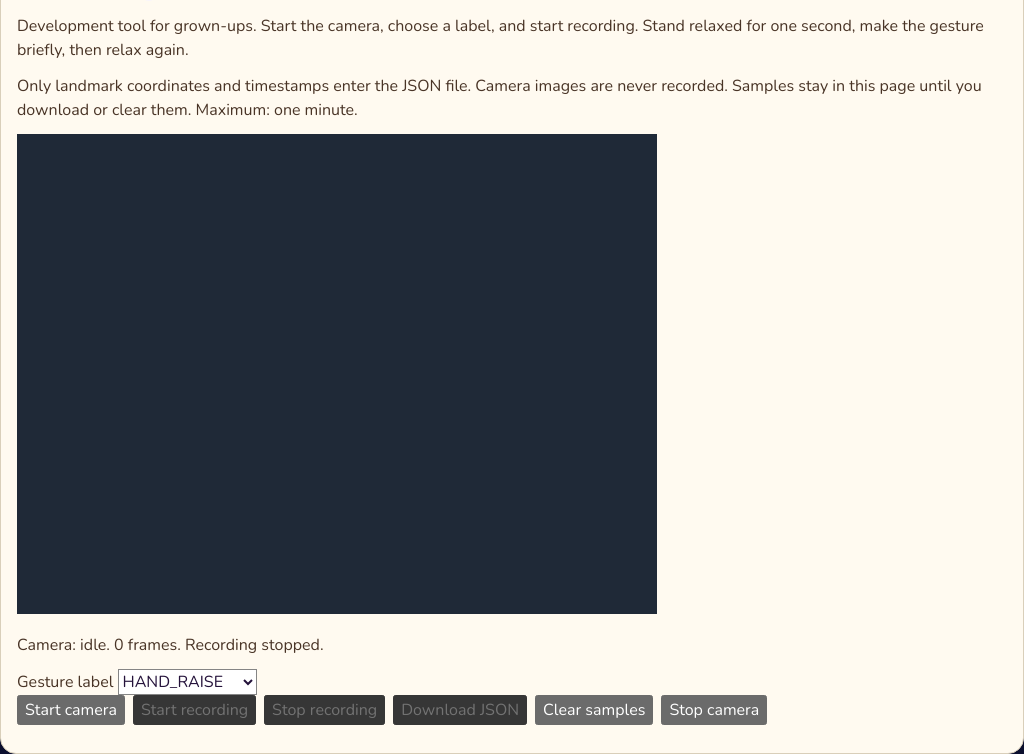
Test case: records only explicit samples, downloads local JSON with relative timestamps and cleans up
The image size is (1024, 754).
(page scrolled)
Check: the button "Download JSON" is disabled, box [393,695,527,725]
Check: the message shows "0 frames", box [17,634,324,656]
Click the button "Start camera": [71, 710] box [17,695,125,725]
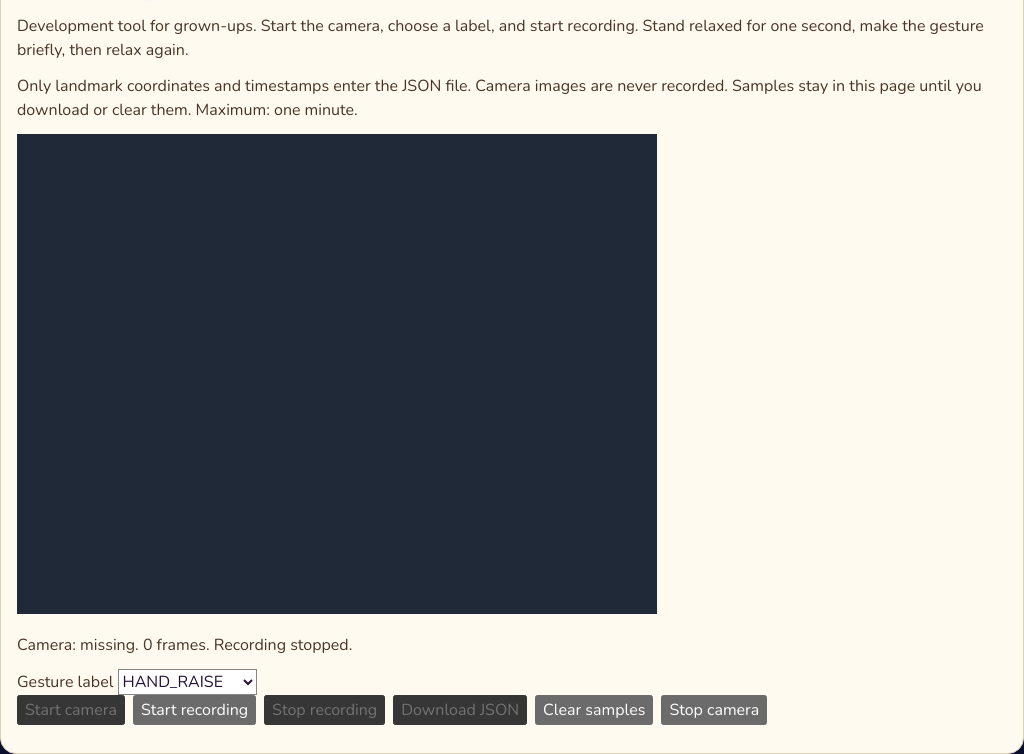
Click the button "Start recording": [194, 710] box [133,695,256,725]
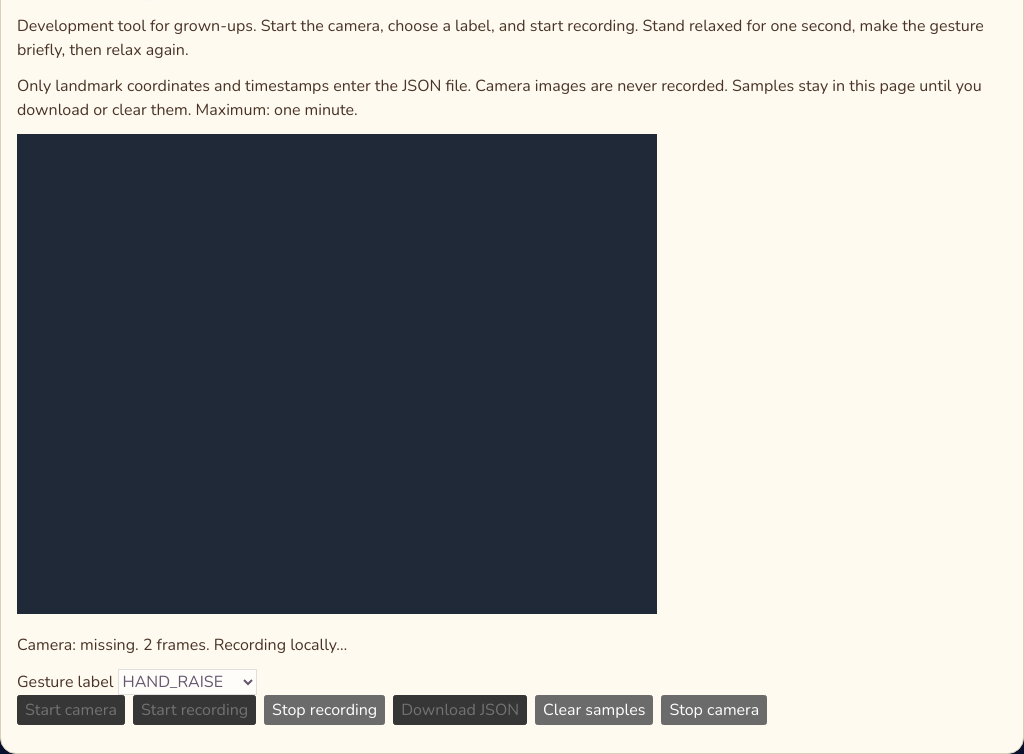
Click the button "Stop recording": [325, 710] box [264,695,385,725]
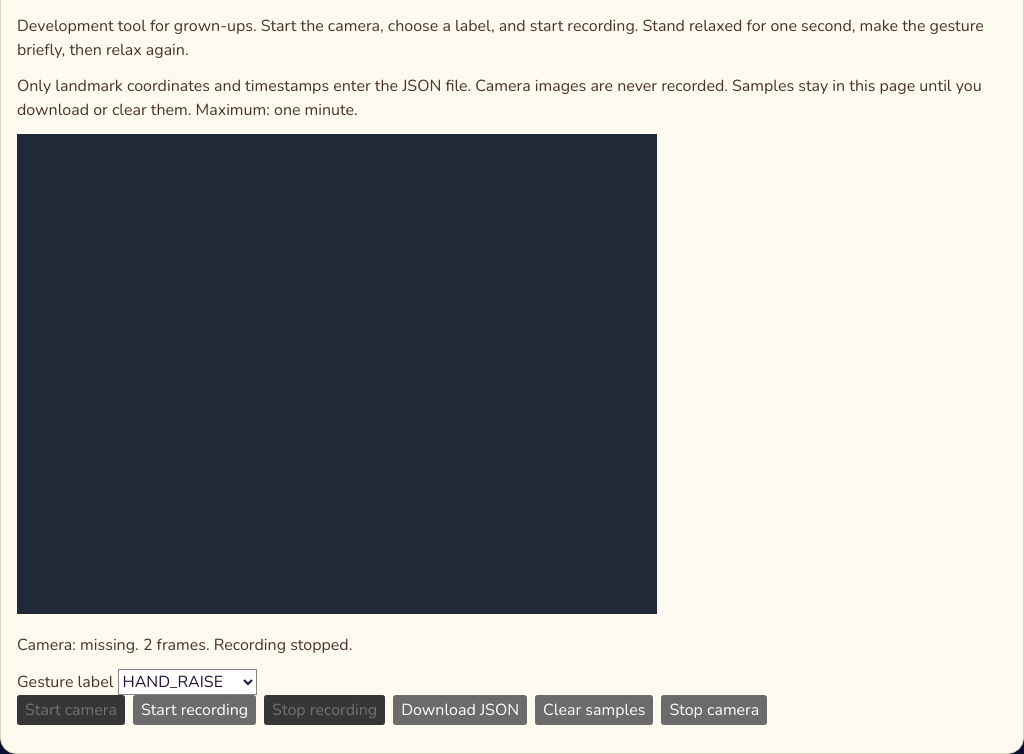
Check: the message shows "2 frames", box [17,634,352,656]
Click the button "Download JSON": [460, 710] box [393,695,527,725]
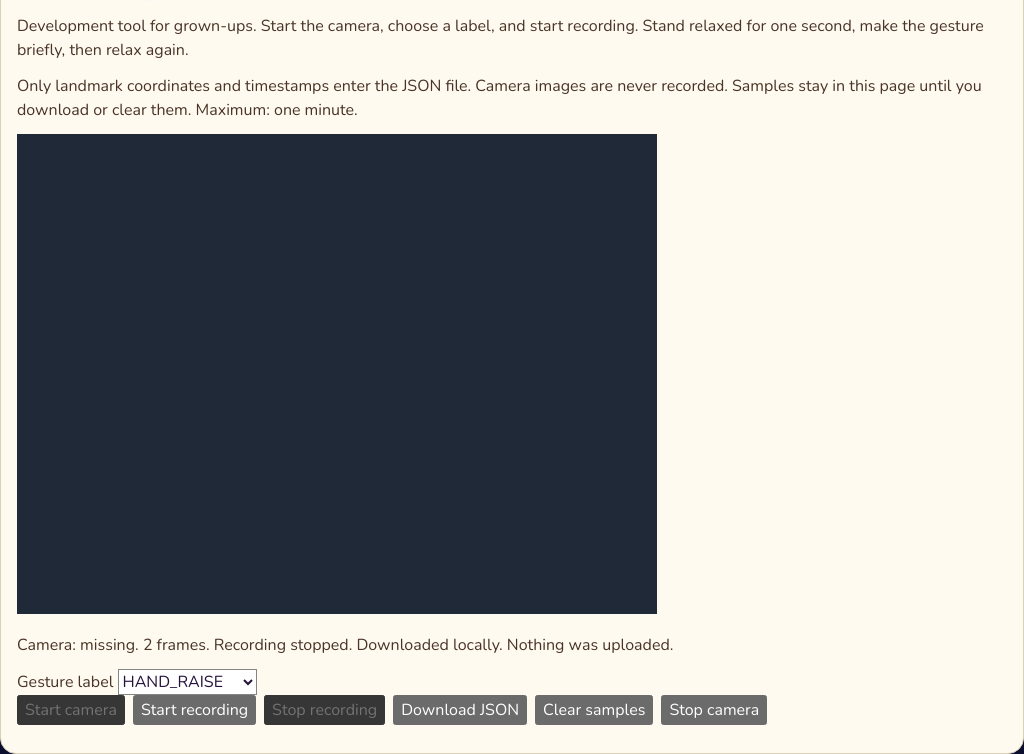
Click the button "Clear samples": [594, 710] box [535,695,653,725]
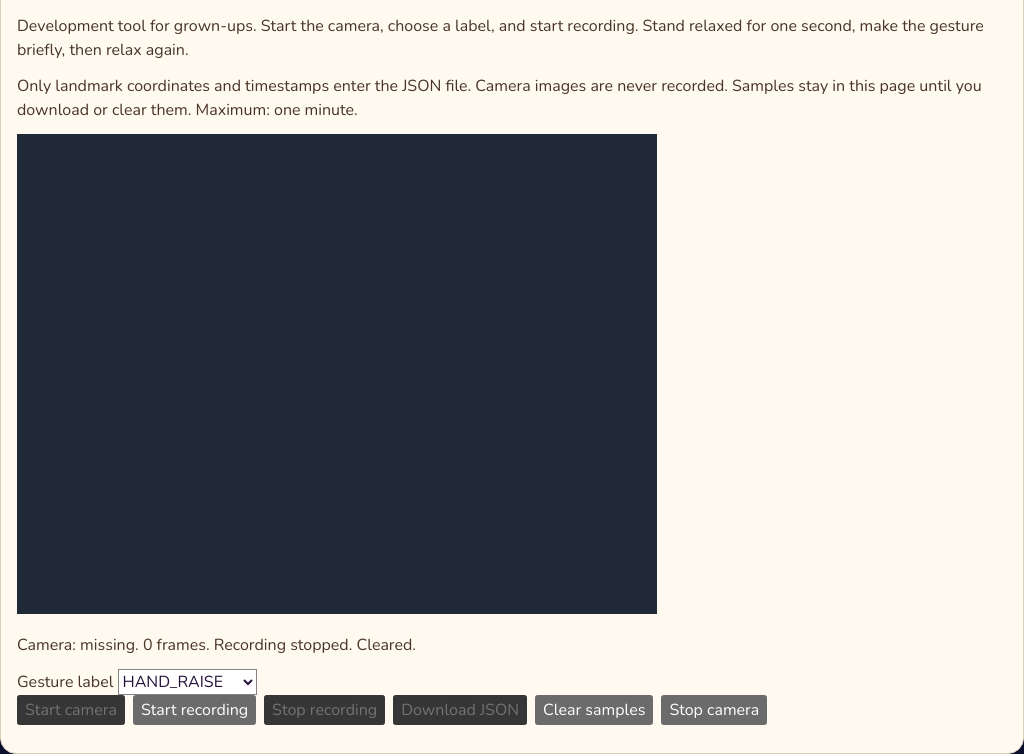
Check: the button "Download JSON" is disabled, box [393,695,527,725]
